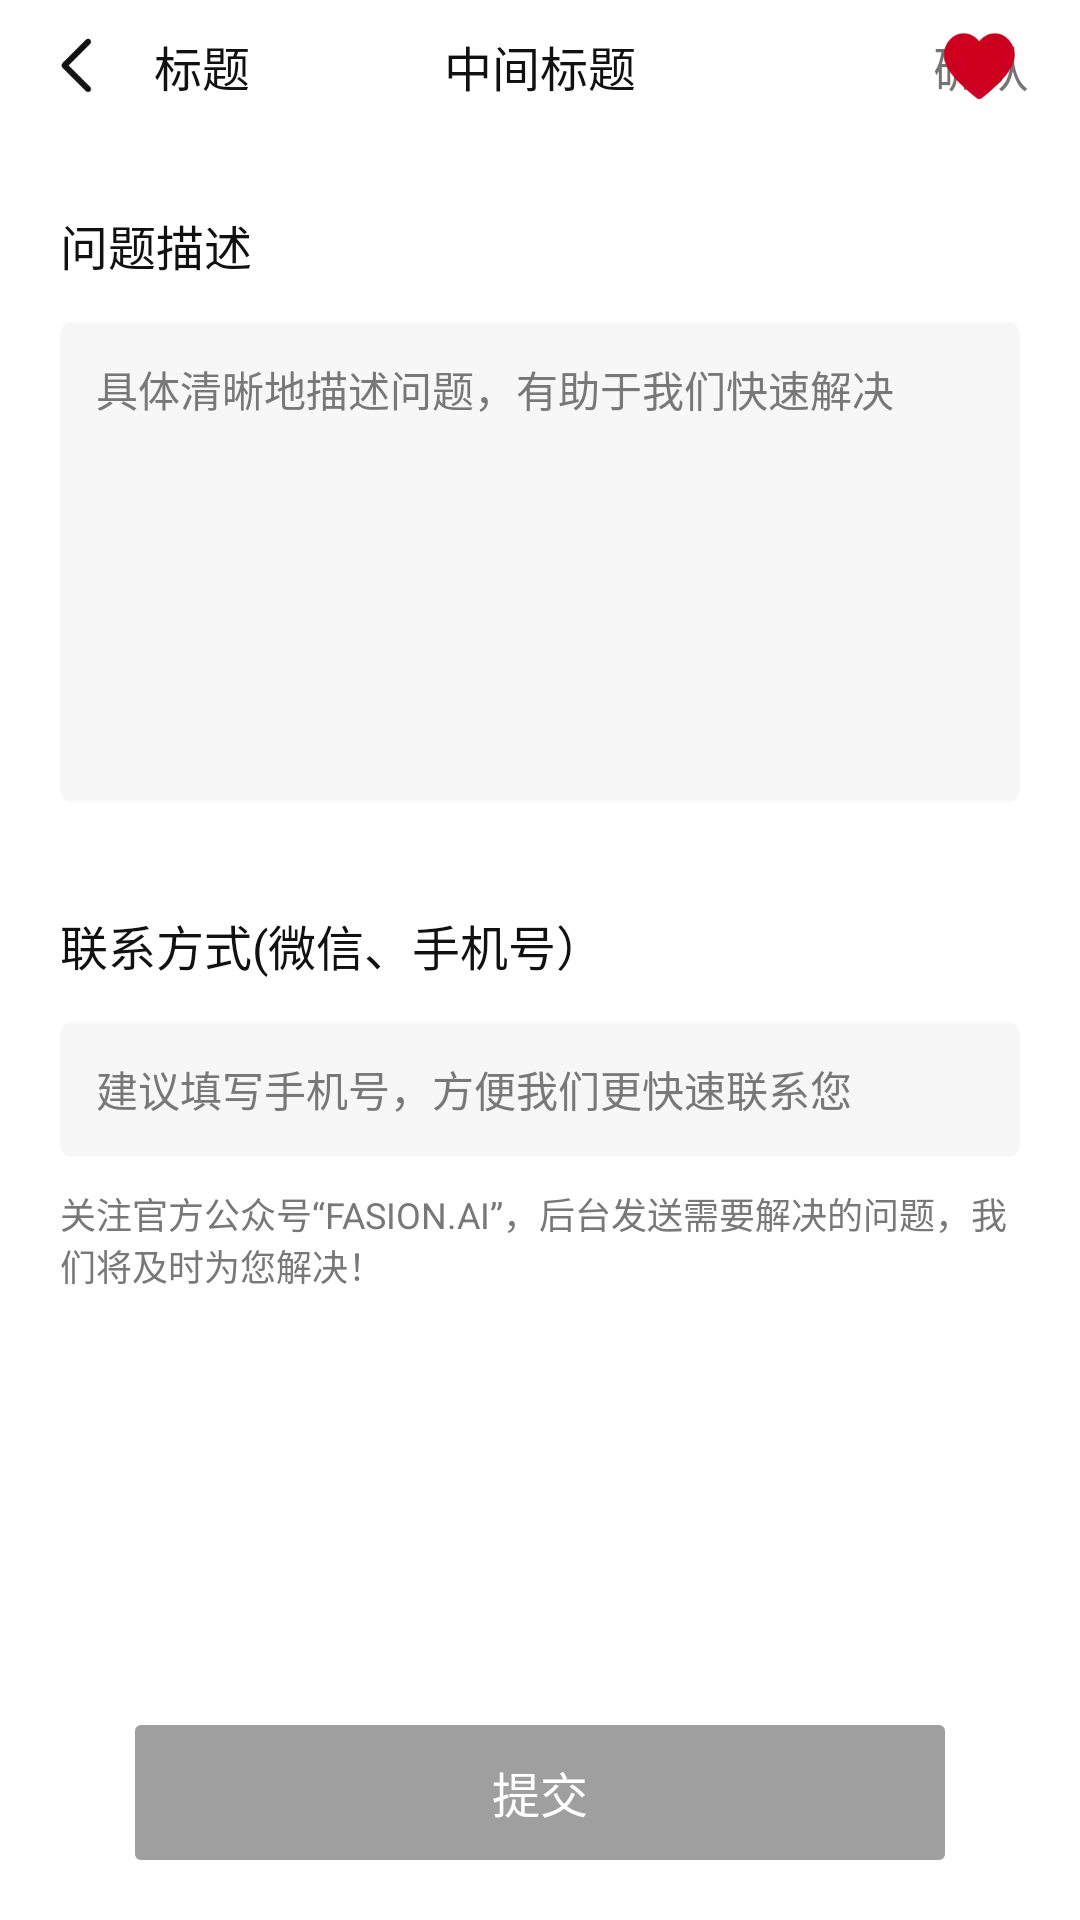

Where icons sit on this 1080x1920 app screen, as (x1, y1, x2, y2):
back: (61, 38, 92, 93)
